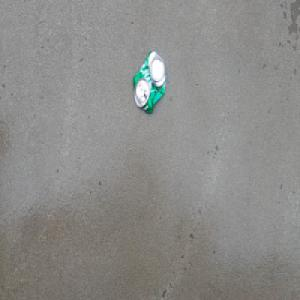SodaCan: (132, 48, 167, 115)
